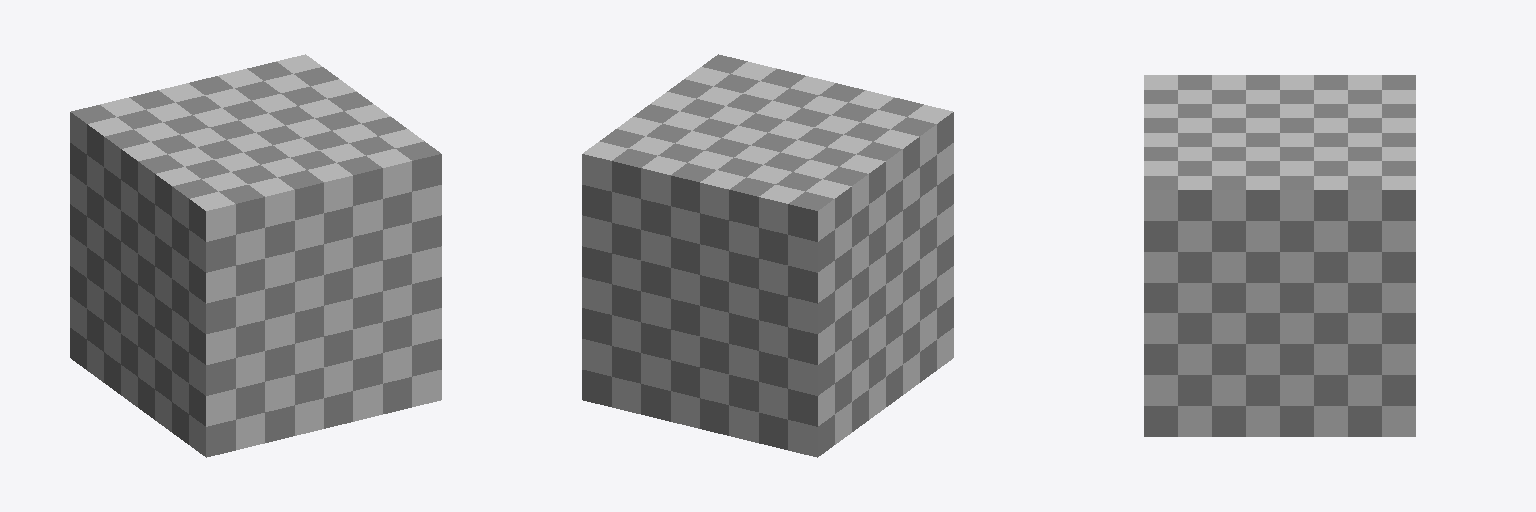
3 views of the same model, side by side, from view 1: azimuth 30°, elevation 25°; view 2: azimuth 150°, elevation 25°; view 3: azimuth 270°, elevation 25° (orthographic).
Parts seen in each view (by area): view 1: cube; view 2: cube; view 3: cube.
Boxes of the visible parts, x1,y1,x2,y2 form: cube: [70, 54, 441, 457]; cube: [582, 54, 953, 457]; cube: [1144, 75, 1415, 436].
Size of the model in its own units: 1 by 1 by 1.
Materials: 1 (1 with a texture image).